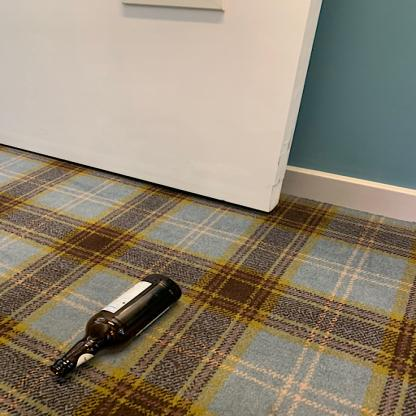trash: (47, 272, 186, 378)
